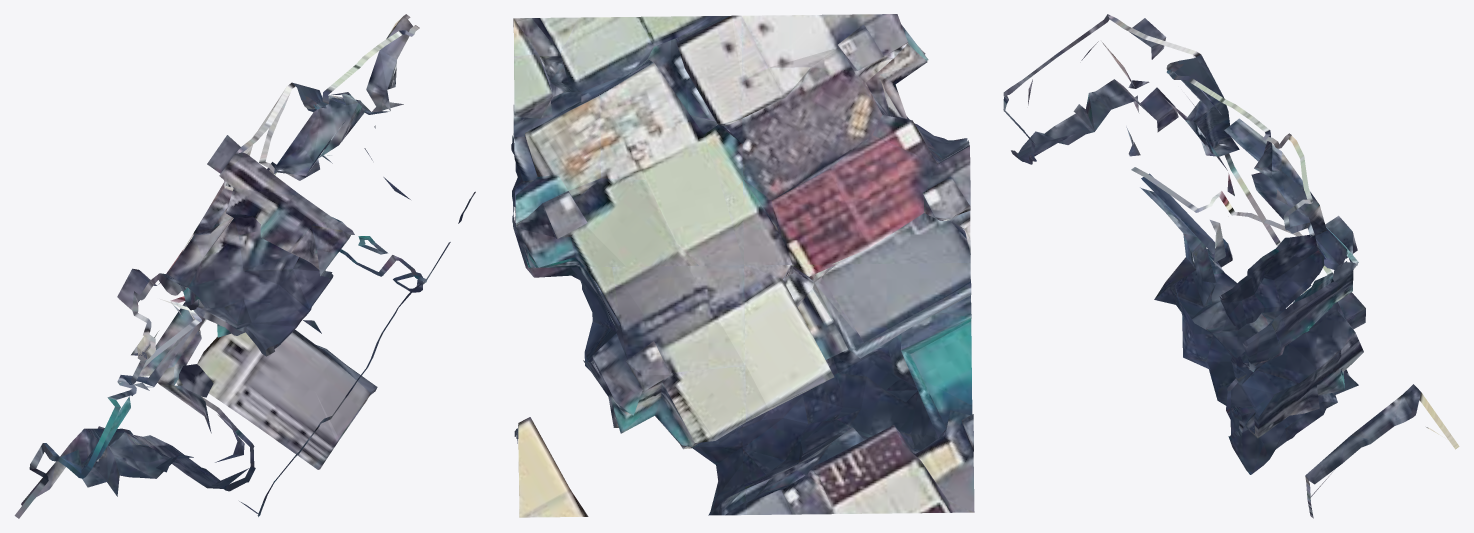
3 views of the same model, side by side, from view 1: azimuth 30°, elevation 25°; view 2: azimuth 150°, elevation 25°; view 3: azimuth 270°, elevation 25° (orthographic). The views are drawn at different scales.
Size of the model in its own units: 42.01 by 40.3 by 39.29.
2 materials, 2 textured.
